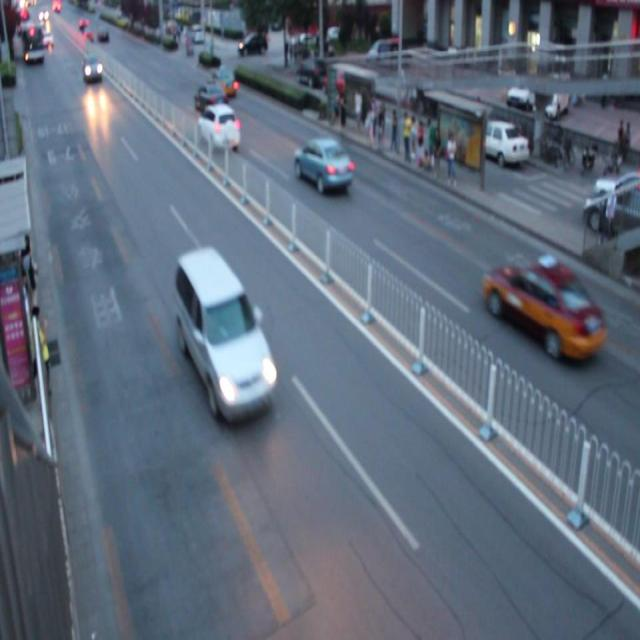car: (483, 250, 603, 363), (293, 133, 353, 193), (197, 102, 239, 156), (194, 80, 228, 118), (207, 66, 238, 99)
truck: (175, 244, 276, 423)
